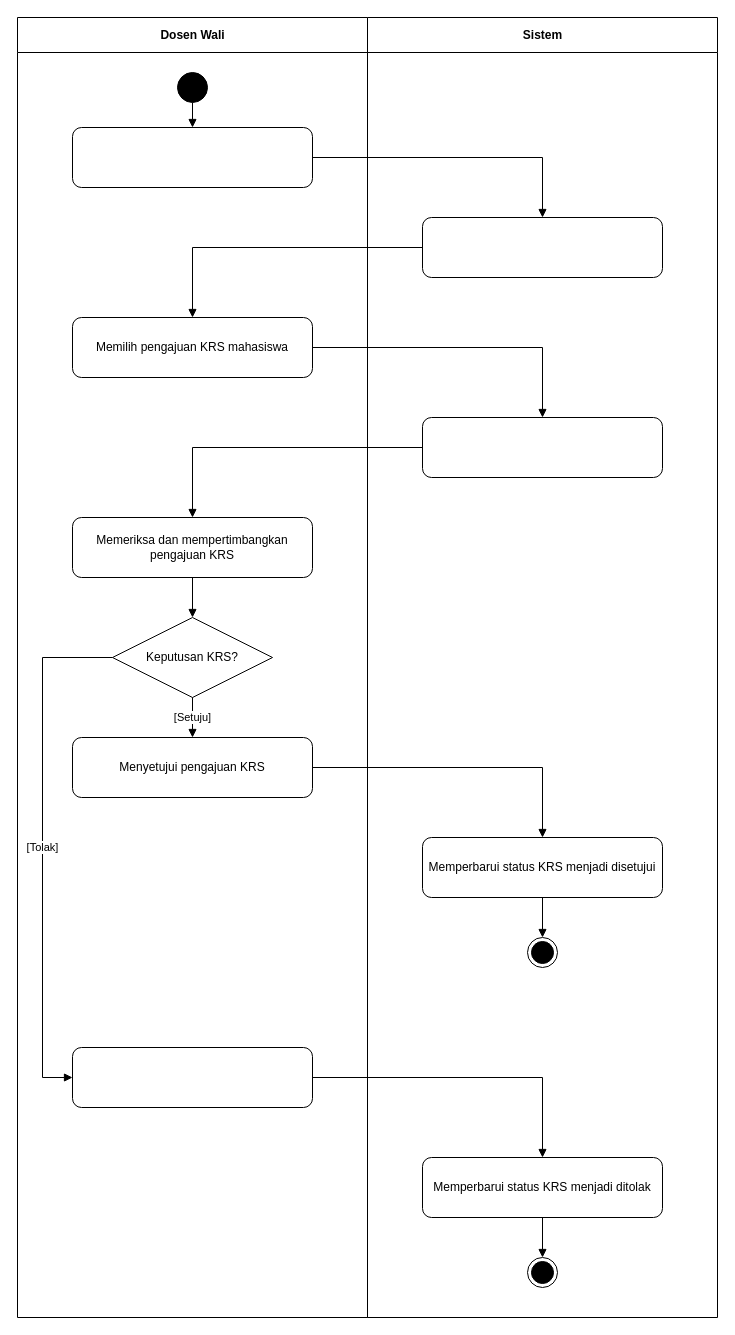
This 735x1335 diagram has some shape labels left out. Here are the shapes that lost their labels. From the top down, the centre of each, then its label:
pixel 192 157: Membuka menu pengajuan KRS mahasiswa
pixel 542 247: Menampilkan daftar pengajuan KRS yang menunggu persetujuan
pixel 542 447: Menampilkan detail pengajuan KRS
pixel 192 1077: Menolak pengajuan KRS dan memberikan alasan penolakan
